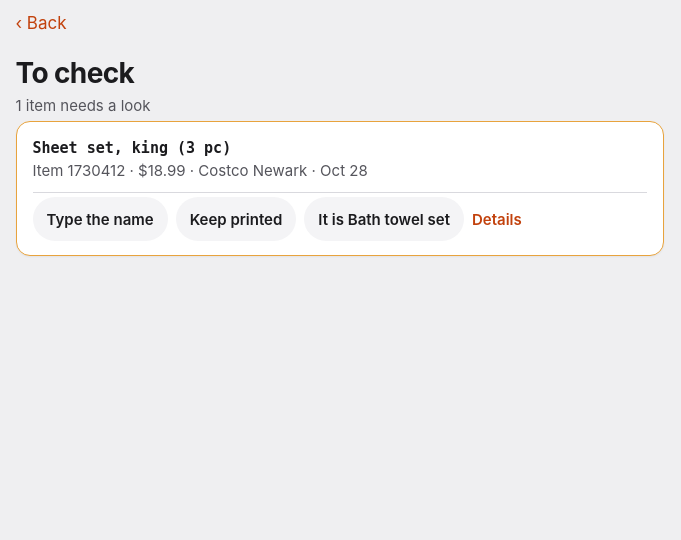
Test: More details opens price, store, date and item number in place
This screenshot has width=681, height=540.
Expected: the text "Sheet set, king (3 pc)" is shown, [32,139,231,157]
Expected: the text with class "sub" shows "Costco Newark", [32,161,368,180]
Click the button "Details". click: point(497, 220)
box: [472,198,522,242]
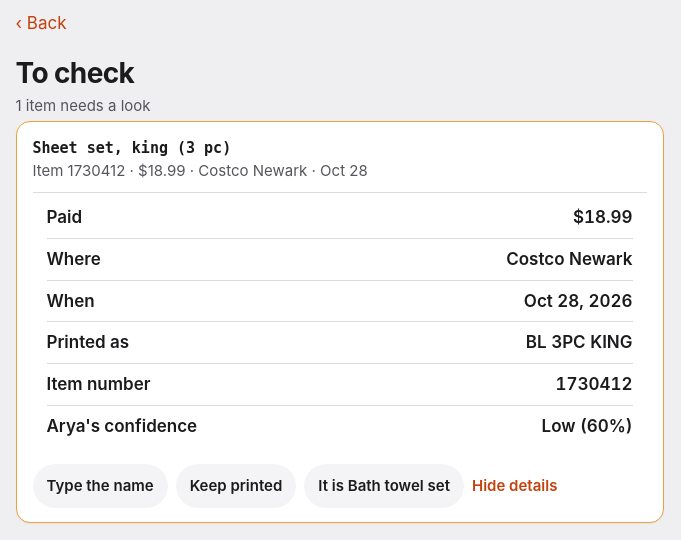
Expected: the element with class "detail" shows "$18.99", [573,208,632,228]
Expected: the element with class "detail" shows "Costco Newark", [506,249,632,269]
Expected: the element with class "detail" shows "Oct 28, 2026", [524,291,632,311]
Click the button "Hide details". click: point(515, 486)
box: [472,464,557,508]
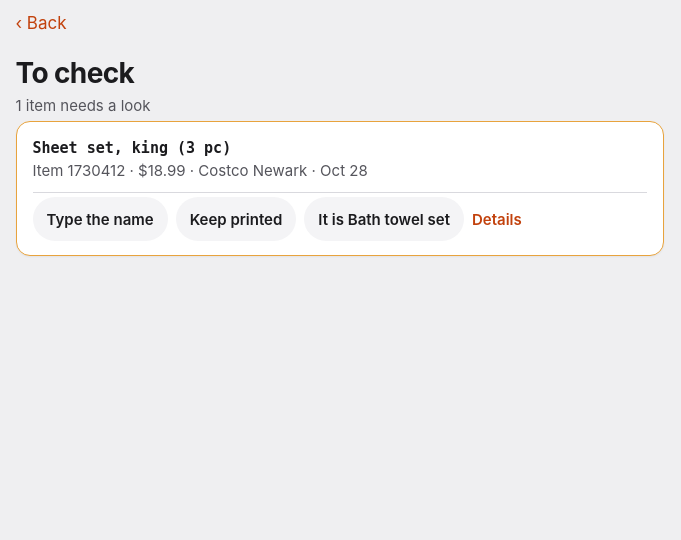
Expected: the element with class "detail" is gone
